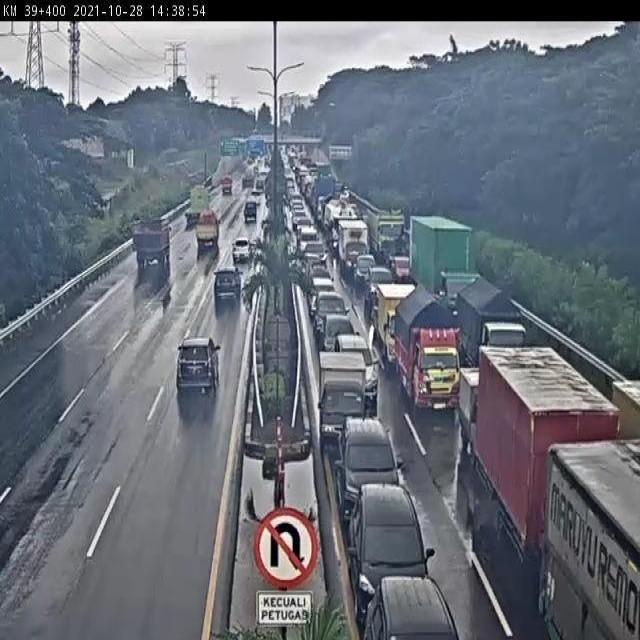Car: (351, 485, 436, 591), (363, 573, 458, 640), (336, 417, 403, 504), (177, 337, 226, 400), (338, 335, 380, 403), (212, 264, 244, 310), (320, 313, 358, 347), (316, 290, 349, 327), (363, 266, 392, 304), (352, 252, 374, 287), (229, 238, 257, 262), (242, 202, 260, 224)
Truck: (478, 345, 618, 550), (541, 442, 640, 640), (393, 286, 459, 410), (458, 278, 526, 353), (408, 215, 472, 292), (316, 351, 368, 437), (378, 286, 418, 360), (132, 214, 174, 274), (338, 221, 372, 271), (182, 186, 214, 224), (194, 210, 221, 251)
